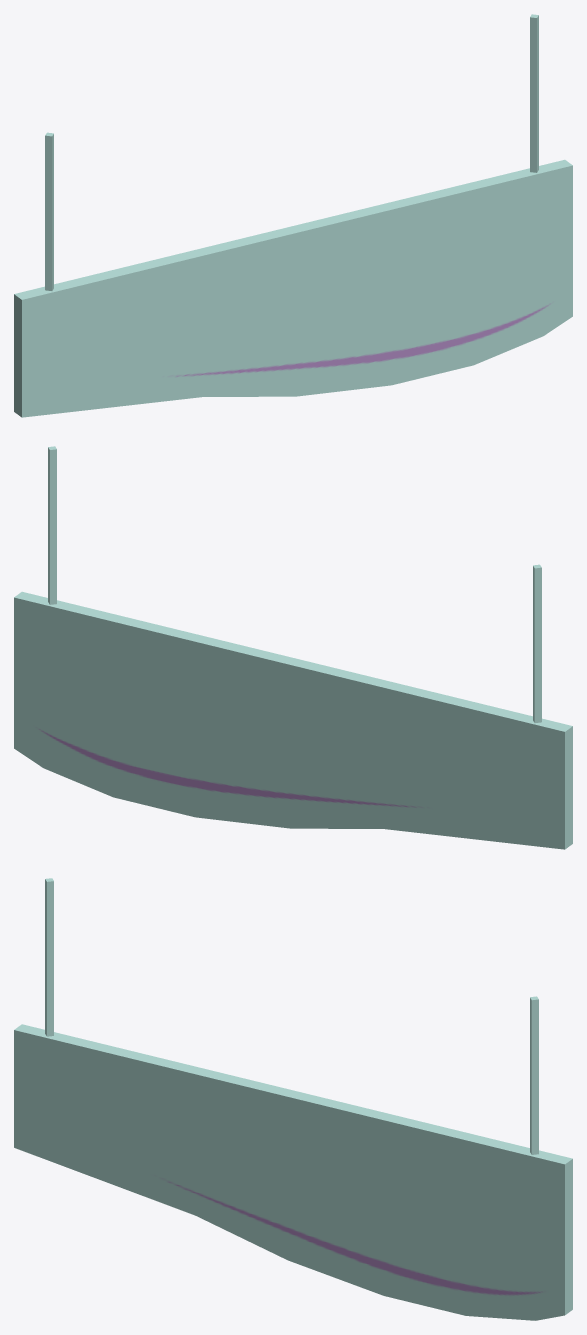
Rendered from Sign.fbx.
3 views of the same model, one above another, from view 1: azimuth 30°, elevation 25°; view 2: azimuth 150°, elevation 25°; view 3: azimuth 330°, elevation 25° (orthographic).
Visible parts, largest first — view 1: pCube2; view 2: pCube2; view 3: pCube2.
Part boxes in pixels (left/top/right/bottom): pCube2: left=14, top=14, right=572, bottom=417; pCube2: left=14, top=446, right=572, bottom=849; pCube2: left=14, top=878, right=572, bottom=1320.
Bounding box in the file's own units: 220 × 126 × 5.51.
1 material, 1 textured.
